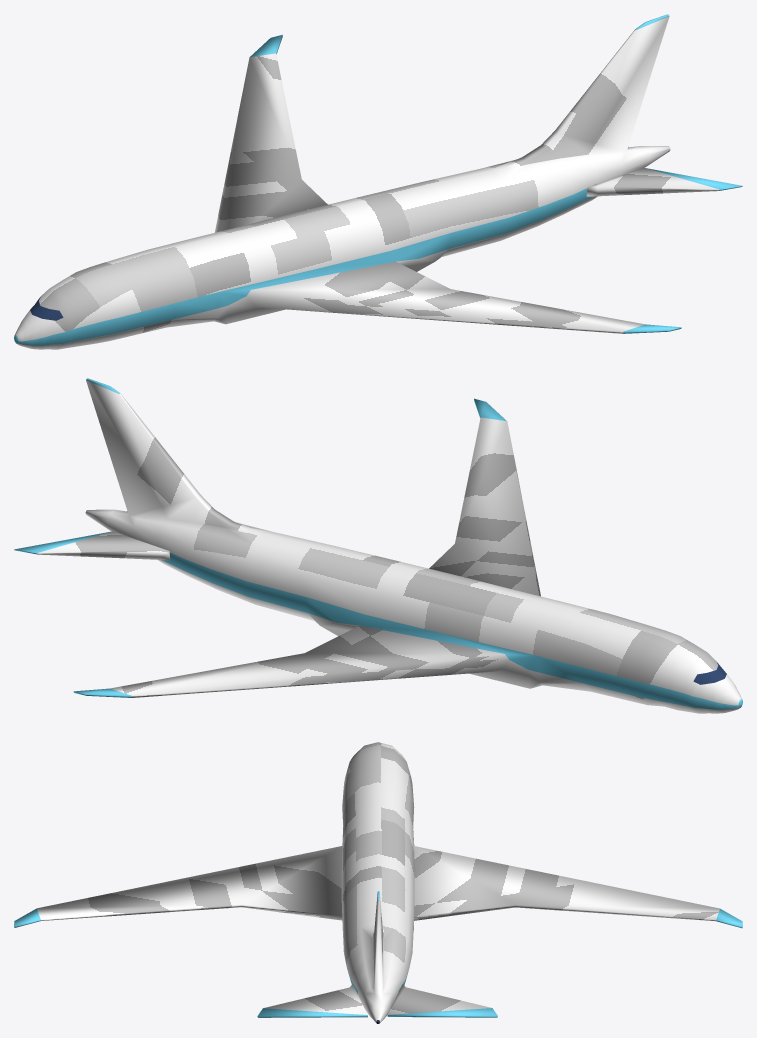
Rendered from boeing787lp.fbx.
The picture shows the model from 3 angles, top to bottom: view 1: azimuth 30°, elevation 25°; view 2: azimuth 150°, elevation 25°; view 3: azimuth 270°, elevation 25°; orthographic projection. The views are drawn at different scales.
Visible parts, largest first — view 1: airplane_clean; view 2: airplane_clean; view 3: airplane_clean.
Boxes of the visible parts, left/top/right/bottom form: airplane_clean: left=14, top=14, right=742, bottom=349; airplane_clean: left=14, top=378, right=742, bottom=713; airplane_clean: left=14, top=742, right=742, bottom=1023.
Size of the model in its own units: 764 by 205 by 798.
1 material, 1 textured.
